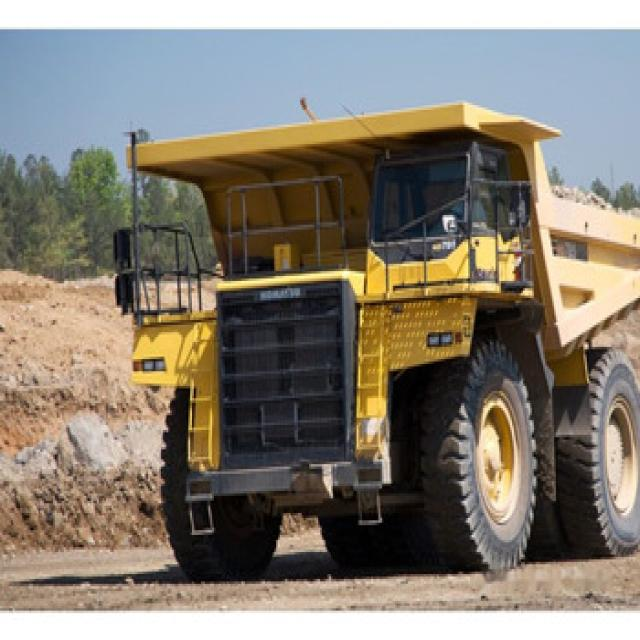dump_truck: (113, 109, 640, 567)
